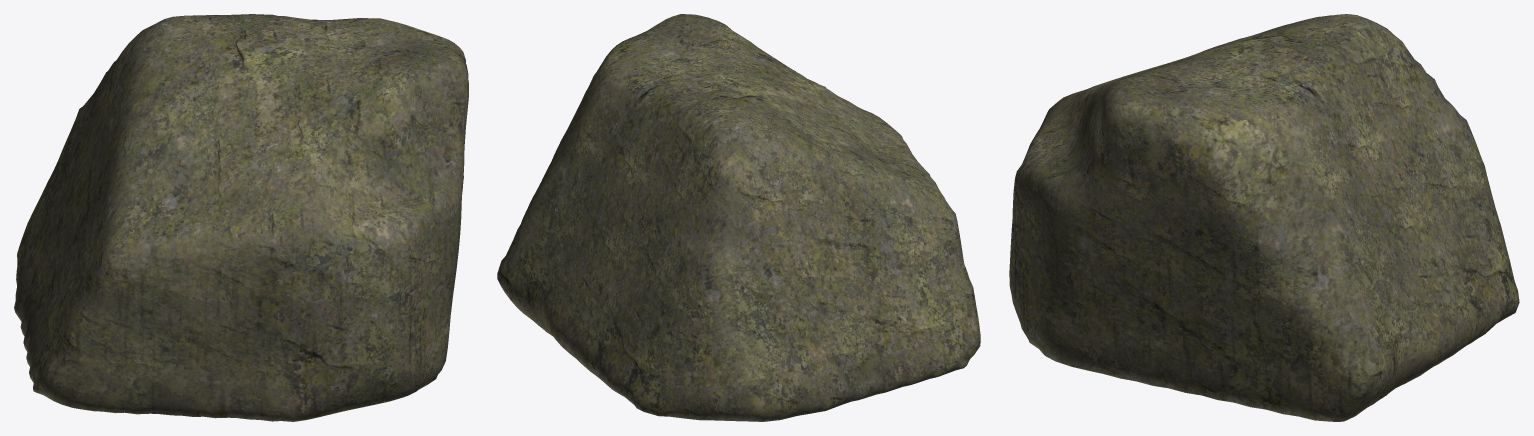
File: rock_d.glb
3 renders of one model, left to right at view 1: azimuth 30°, elevation 25°; view 2: azimuth 150°, elevation 25°; view 3: azimuth 270°, elevation 25°, orthographic. The views are drawn at different scales.
Parts seen in each view (by area): view 1: rock_d; view 2: rock_d; view 3: rock_d.
Part boxes in pixels (x1,y1,x2,y2): rock_d: (14, 14, 468, 421); rock_d: (497, 14, 980, 421); rock_d: (1009, 14, 1519, 421).
Size of the model in its own units: 10.19 by 6.08 by 9.44.
Materials: 1 (1 with a texture image).
